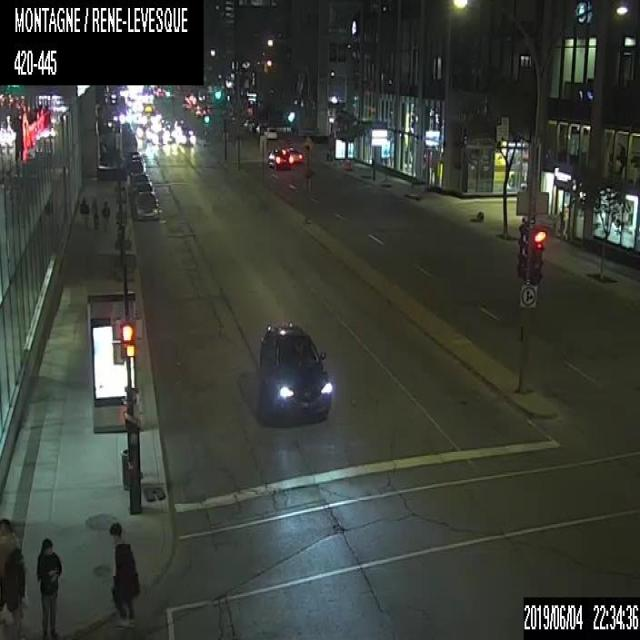pedestrian: (107, 518, 141, 626), (0, 514, 25, 638), (34, 534, 62, 638), (78, 195, 88, 232), (100, 197, 110, 231), (90, 197, 100, 230)
vehicle: (258, 317, 333, 420), (133, 190, 161, 219), (130, 180, 154, 211), (267, 144, 289, 171), (129, 160, 145, 179), (285, 146, 303, 161), (180, 130, 196, 146), (130, 173, 150, 185), (263, 126, 277, 139), (193, 105, 207, 116)
